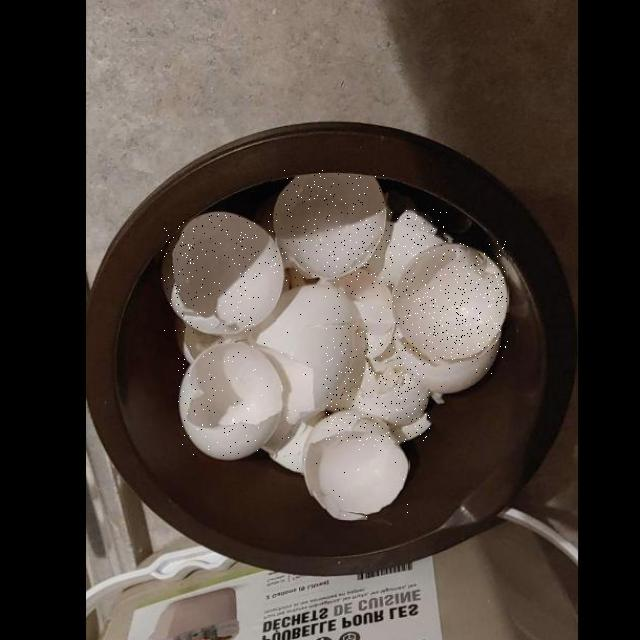biowaste: (254, 278, 359, 425), (161, 212, 280, 333), (393, 240, 508, 361), (272, 170, 386, 277), (179, 341, 281, 459), (302, 409, 409, 520), (326, 336, 430, 443), (394, 328, 501, 393), (365, 209, 448, 287), (328, 268, 395, 359), (261, 411, 326, 474)
